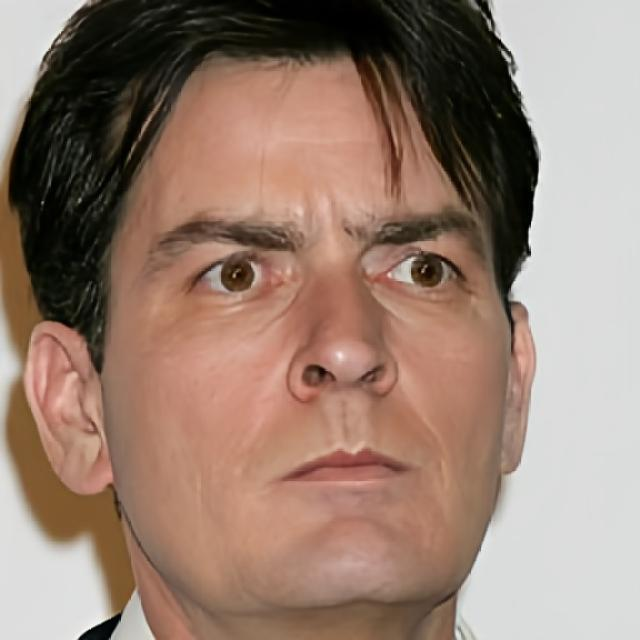anger: (109, 49, 510, 616)
